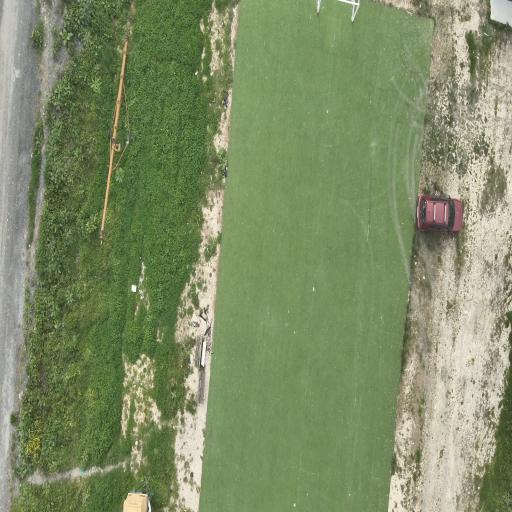car: (418, 194, 463, 231)
